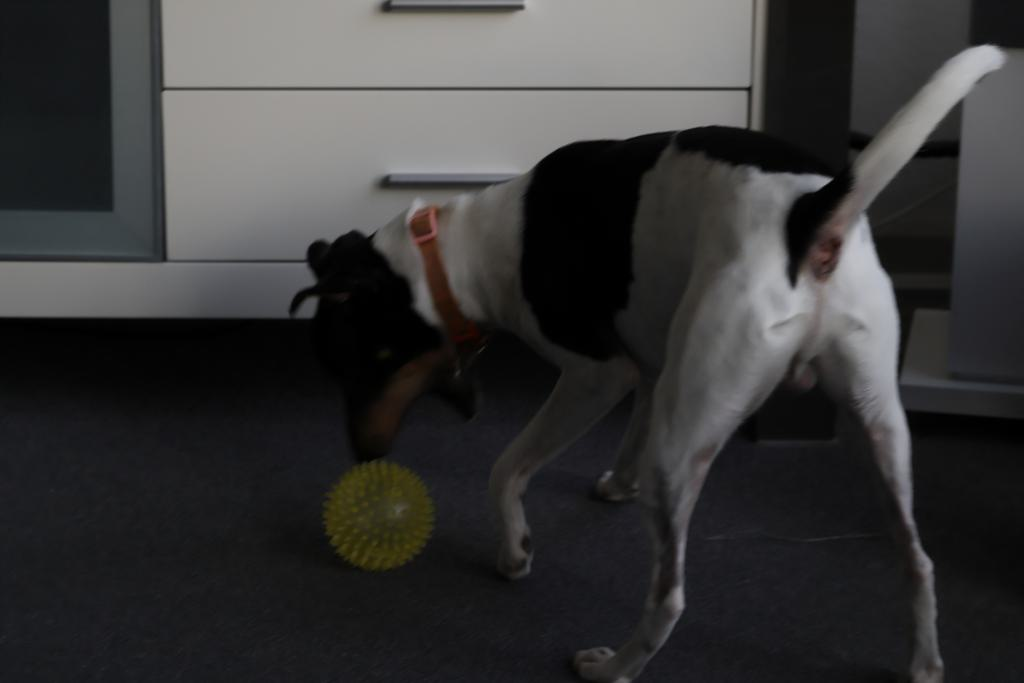Dog: (279, 19, 1015, 683)
